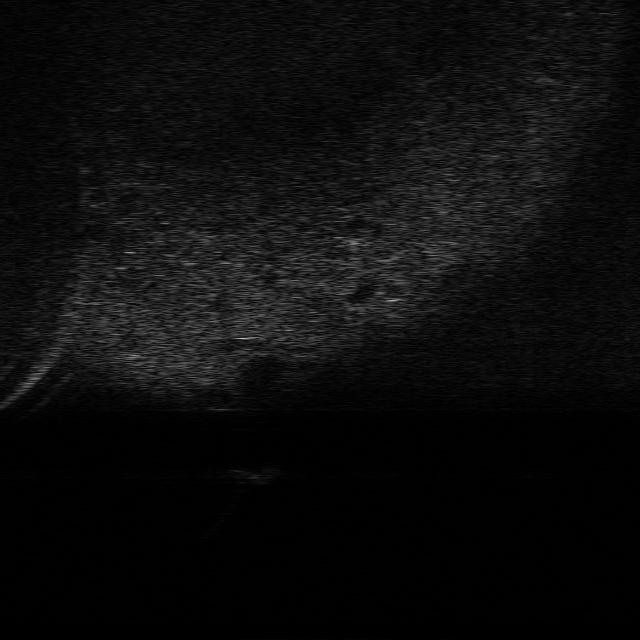cube: (229, 461, 286, 484)
